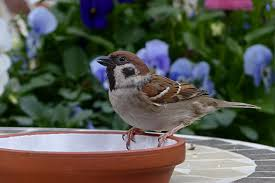hsparrow: (97, 47, 263, 134)
